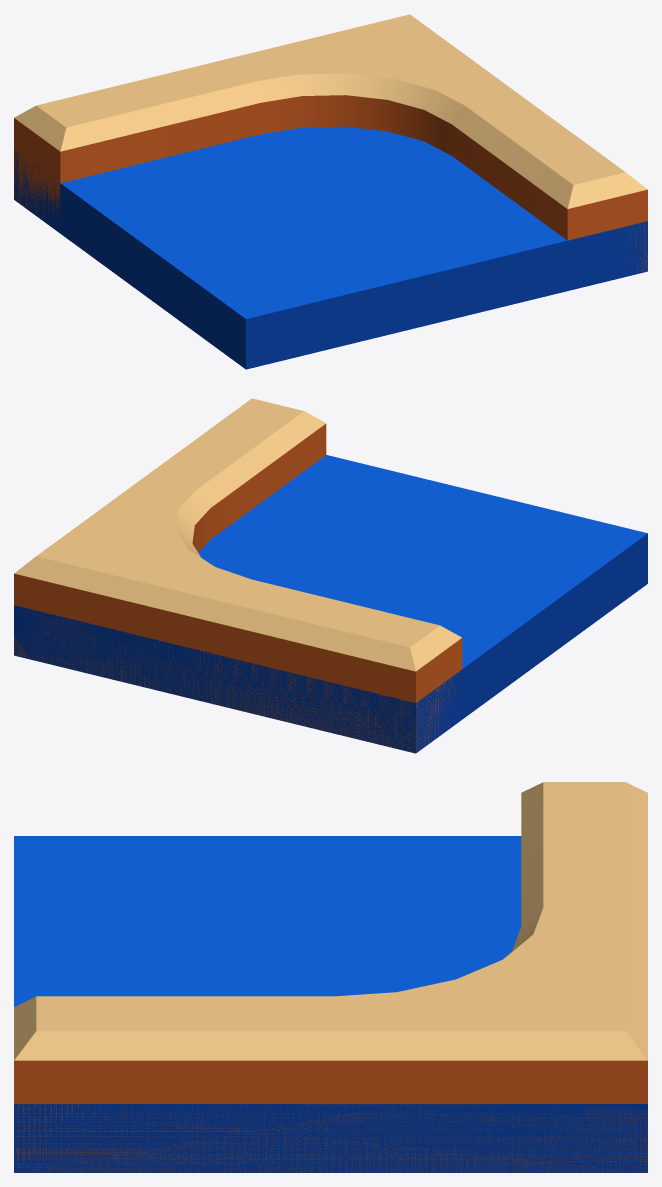
The model's file is water_corner_outer.glb.
3 views of the same model, one above another, from view 1: azimuth 30°, elevation 25°; view 2: azimuth 150°, elevation 25°; view 3: azimuth 270°, elevation 25° (orthographic). The views are drawn at different scales.
Parts seen in each view (by area): view 1: water_corner_outer; view 2: water_corner_outer; view 3: water_corner_outer.
Part boxes in pixels (left/top/right/bottom): water_corner_outer: left=14, top=14, right=647, bottom=369; water_corner_outer: left=14, top=398, right=647, bottom=753; water_corner_outer: left=14, top=782, right=647, bottom=1172.
Size of the model in its own units: 1 by 0.23 by 1.
1 material, 1 textured.
